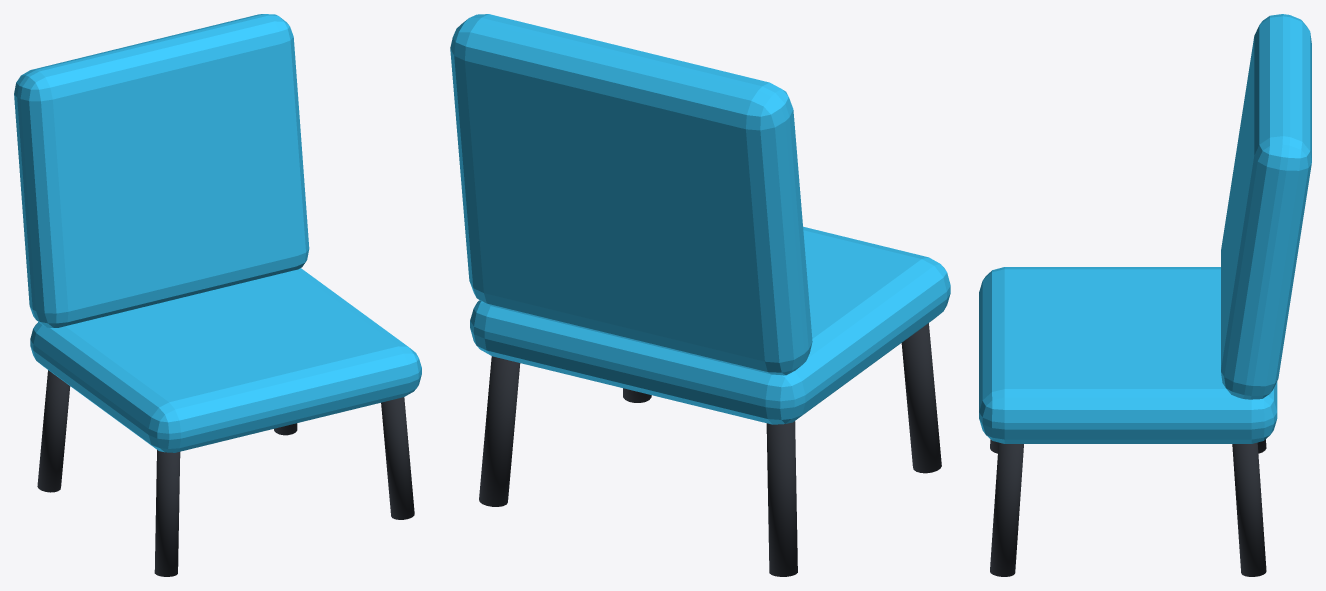
The model's file is silla_acolchada.glb.
3 views of the same model, side by side, from view 1: azimuth 30°, elevation 25°; view 2: azimuth 150°, elevation 25°; view 3: azimuth 270°, elevation 25° (orthographic). The views are drawn at different scales.
Parts seen in each view (by area): view 1: Cube.001, Cube, Cylinder, Cylinder.002, Cylinder.001; view 2: Cube.001, Cube, Cylinder.001, Cylinder.003, Cylinder; view 3: Cube, Cube.001, Cylinder.002, Cylinder.003.
Boxes of the visible parts, x1,y1,x2,y2 form: Cube.001: [14, 14, 309, 327]; Cube: [30, 268, 421, 452]; Cylinder: [154, 450, 180, 576]; Cylinder.002: [381, 397, 414, 519]; Cylinder.001: [37, 370, 70, 492]; Cube.001: [450, 14, 812, 375]; Cube: [470, 226, 950, 424]; Cylinder.001: [766, 421, 797, 576]; Cylinder.003: [479, 356, 520, 506]; Cylinder: [901, 323, 941, 473]; Cube: [979, 267, 1277, 443]; Cube.001: [1221, 14, 1311, 399]; Cylinder.002: [990, 442, 1023, 576]; Cylinder.003: [1232, 442, 1266, 576].
Bounding box in the file's own units: 0.92 × 1.32 × 0.9151.
